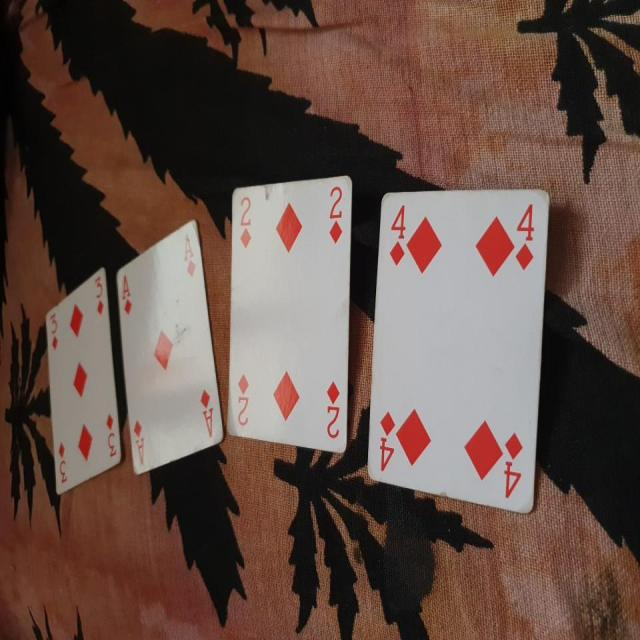2 Diamonds: (218, 162, 358, 453)
3 Diamonds: (42, 271, 123, 494)
4 Diamonds: (362, 190, 554, 516)
A Diamonds: (116, 215, 230, 480)
